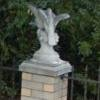Statue: (17, 1, 68, 61)
